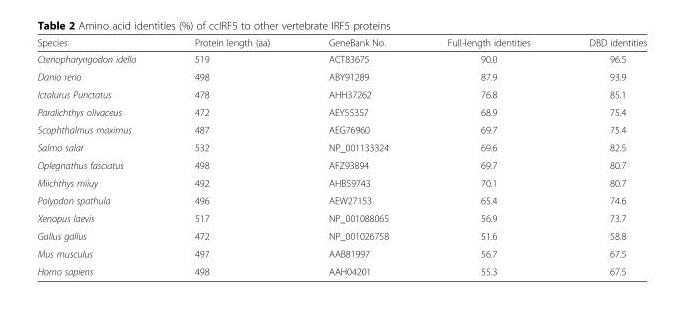table: (36, 36, 646, 276)
table column: (417, 36, 558, 276), (164, 36, 298, 276), (36, 36, 164, 276), (298, 36, 417, 276), (558, 36, 646, 276)
table column header: (36, 36, 646, 50)
table row: (36, 67, 646, 85), (36, 102, 646, 120), (36, 120, 646, 138), (36, 155, 646, 173), (36, 173, 646, 191), (36, 191, 646, 209), (36, 226, 646, 244), (36, 244, 646, 262), (36, 50, 646, 67), (36, 85, 646, 102), (36, 138, 646, 155), (36, 209, 646, 226), (36, 36, 646, 50), (36, 262, 646, 276)
